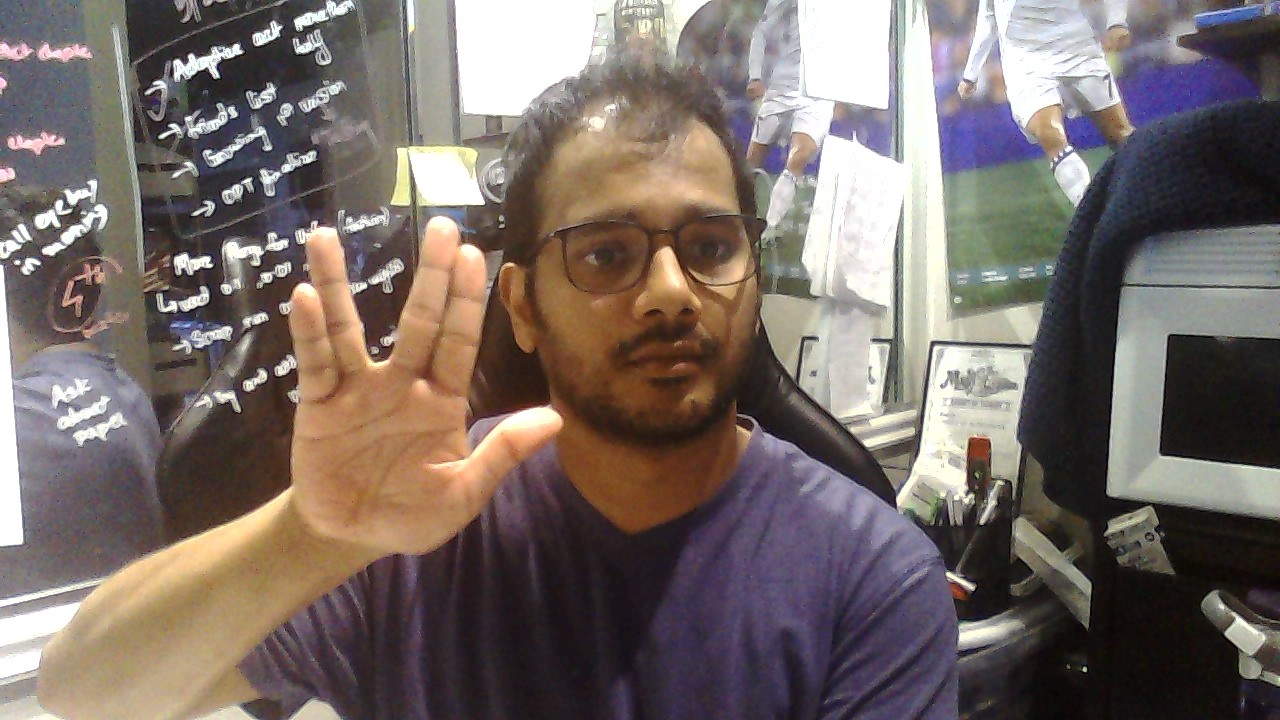LiveLong: (288, 215, 564, 555)
